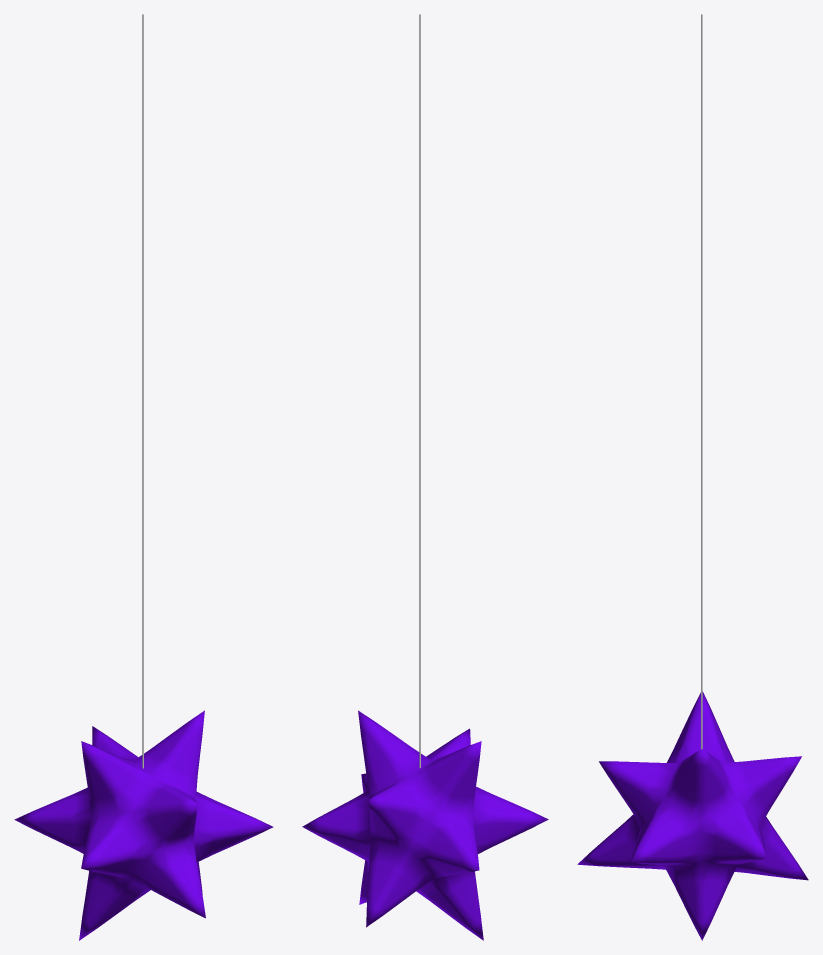
The model's file is Hanging_Stars.fbx.
3 renders of one model, left to right at view 1: azimuth 30°, elevation 25°; view 2: azimuth 150°, elevation 25°; view 3: azimuth 270°, elevation 25°, orthographic.
Parts seen in each view (by area): view 1: HangingStar_A5_Scene, cable; view 2: HangingStar_A5_Scene, cable; view 3: HangingStar_A5_Scene, cable.
Boxes of the visible parts, x1,y1,x2,y2 form: HangingStar_A5_Scene: (14, 710, 273, 940); cable: (142, 14, 143, 768); HangingStar_A5_Scene: (302, 710, 548, 940); cable: (419, 14, 420, 767); HangingStar_A5_Scene: (577, 691, 808, 940); cable: (701, 14, 702, 749).
Size of the model in its own units: 104 by 476 by 111.
